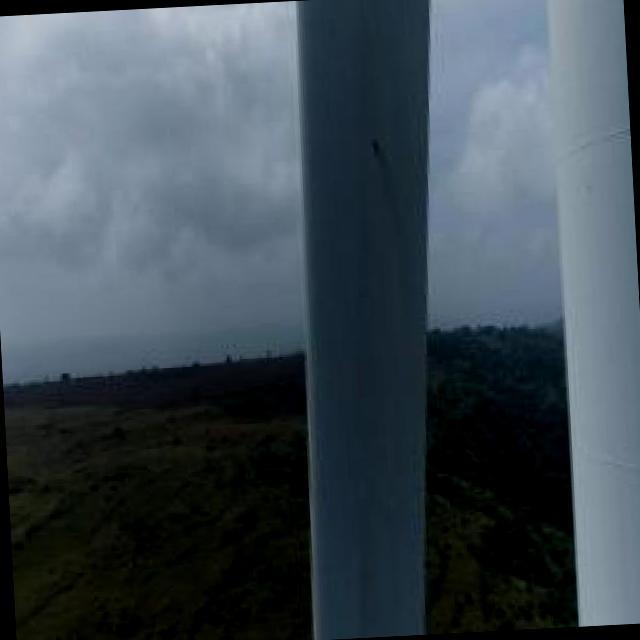Pin Hole: (370, 134, 387, 162)
